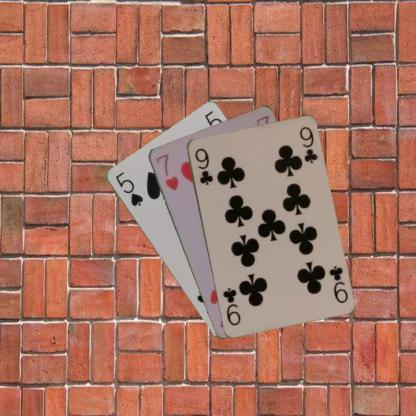5s: (112, 170, 145, 208)
7h: (152, 150, 180, 192)
9c: (326, 262, 349, 304), (192, 145, 214, 186)
